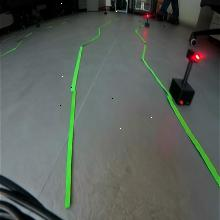red: (186, 48, 200, 64)
